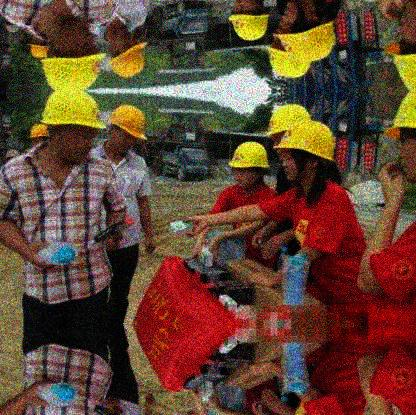helmet: (41, 18, 105, 93), (39, 91, 108, 160), (275, 120, 336, 190), (277, 2, 338, 62), (265, 102, 314, 164), (382, 91, 416, 180), (266, 18, 314, 81), (381, 3, 416, 89), (107, 22, 148, 80), (104, 103, 148, 157), (227, 139, 269, 193), (228, 1, 270, 44), (27, 122, 48, 147), (26, 35, 47, 58)
